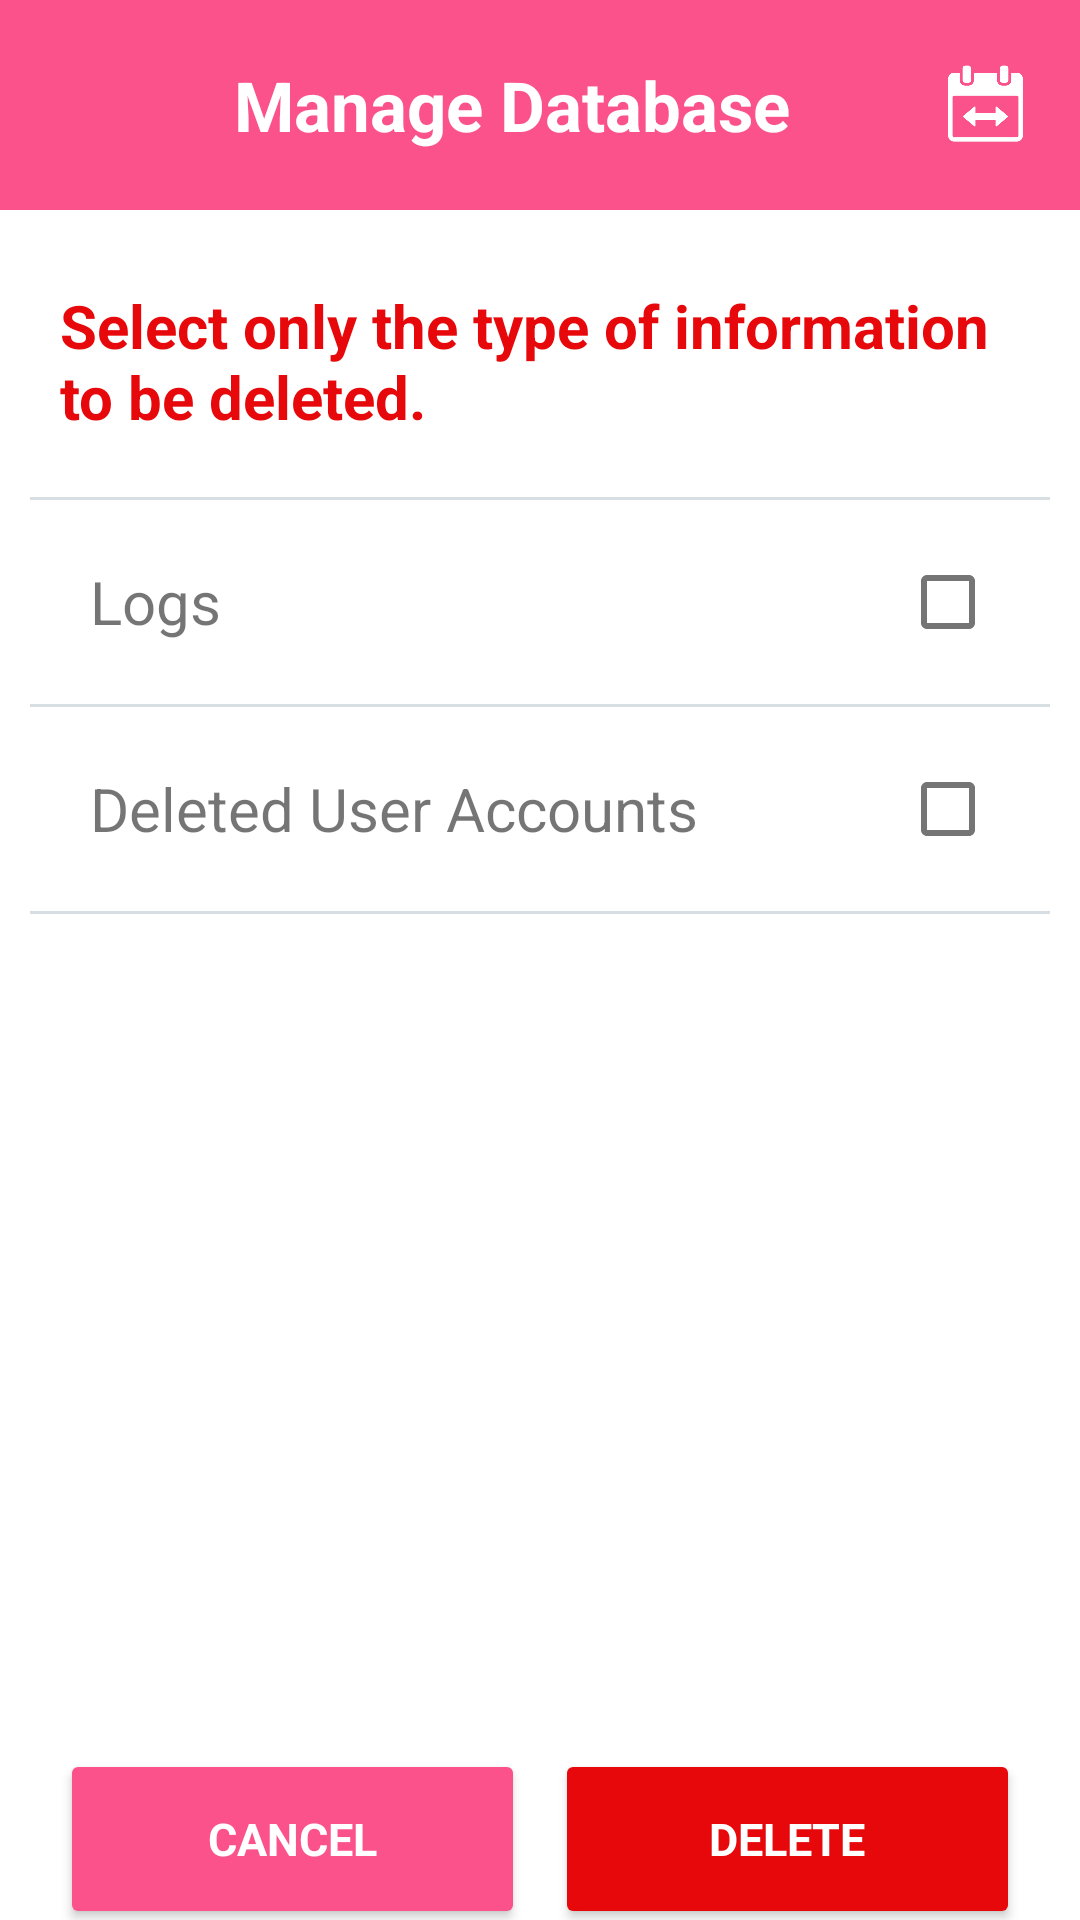

Icons on this 1080w x 1920h Android screen, each with its box as [x1,y1,x2,y2]:
date range: [948,65,1023,142]
